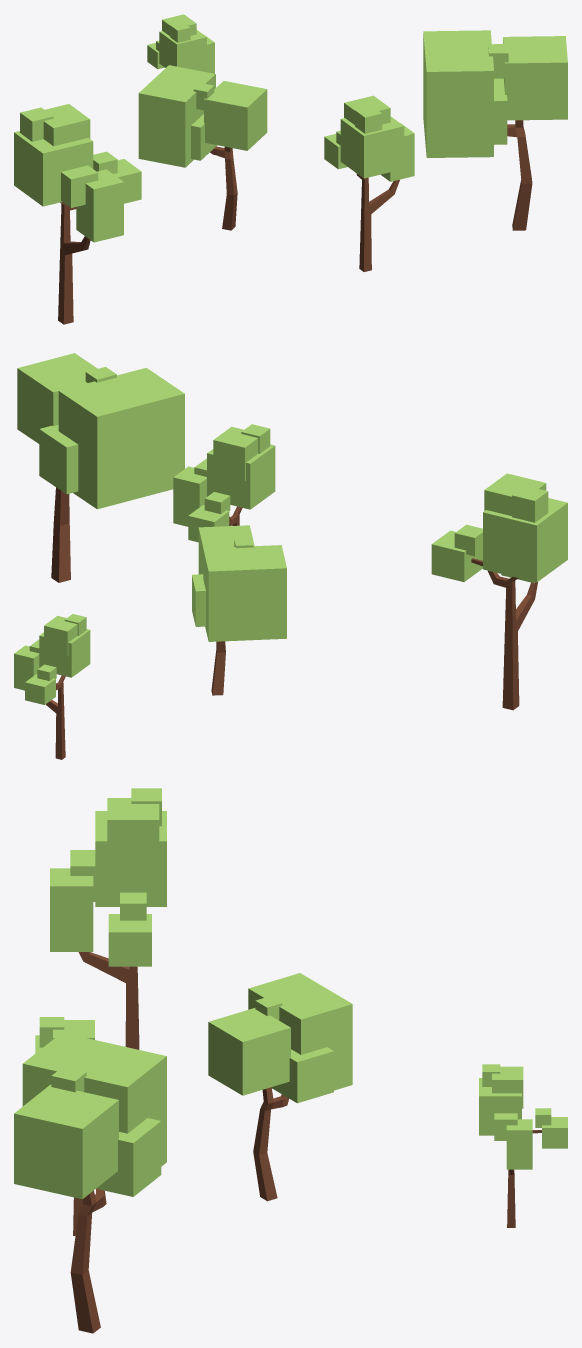
The model's file is trees.glb.
3 views of the same model, one above another, from view 1: azimuth 30°, elevation 25°; view 2: azimuth 150°, elevation 25°; view 3: azimuth 270°, elevation 25° (orthographic). The views are drawn at different scales.
Parts seen in each view (by area): view 1: Cube.037, Cube.029, Cube.011, Cube.012, Cube.022; view 2: Cube.037, Cube.029, Cube.011, Cube.012, Cube.022; view 3: Cube.037, Cube.029, Cube.011, Cube.022, Cube.012.
Boxes of the visible parts, x1,y1,x2,y2 form: Cube.037: (423,30,567,230); Cube.029: (14,104,141,324); Cube.011: (138,65,267,230); Cube.012: (324,95,414,271); Cube.022: (147,14,214,73); Cube.037: (17,353,184,582); Cube.029: (431,473,567,710); Cube.011: (192,525,286,695); Cube.012: (173,424,275,542); Cube.022: (14,614,90,759); Cube.037: (14,1032,166,1333); Cube.029: (50,788,166,1049); Cube.011: (208,973,352,1201); Cube.022: (479,1064,567,1227); Cube.012: (35,1017,94,1235).
Bounding box in the file's own units: 1.84 × 0.7068 × 1.38.
